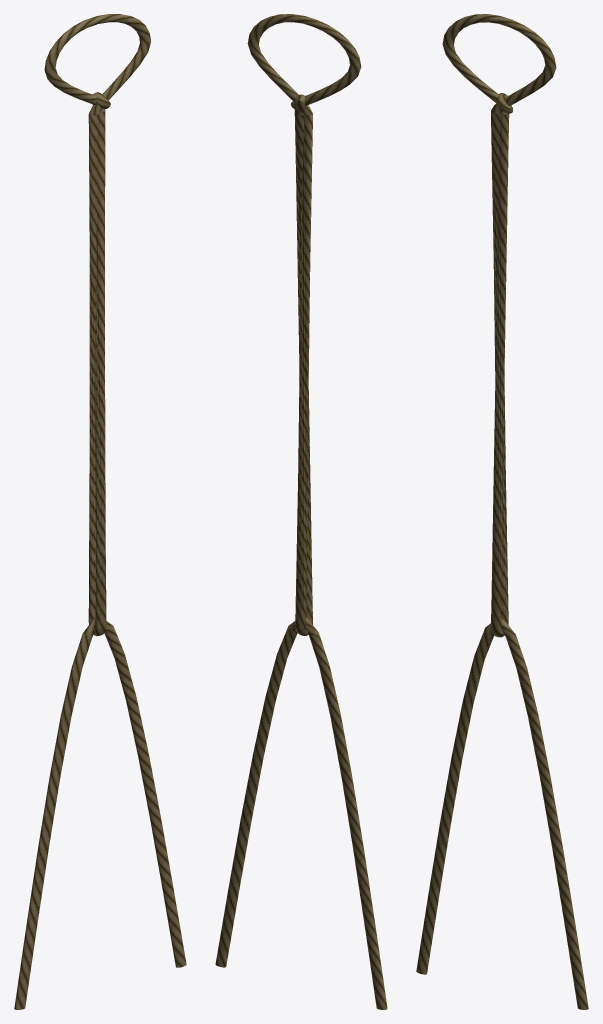
3 renders of one model, left to right at view 1: azimuth 30°, elevation 25°; view 2: azimuth 150°, elevation 25°; view 3: azimuth 330°, elevation 25°, orthographic.
Visible parts, largest first — view 1: Line056_Material_0_0; view 2: Line056_Material_0_0; view 3: Line056_Material_0_0.
Boxes of the visible parts, x1,y1,x2,y2 form: Line056_Material_0_0: (14,14,186,1009); Line056_Material_0_0: (215,14,387,1009); Line056_Material_0_0: (416,14,588,1009).
Size of the model in its own units: 0.337 by 1.82 by 0.0346.
Materials: 1 (1 with a texture image).
